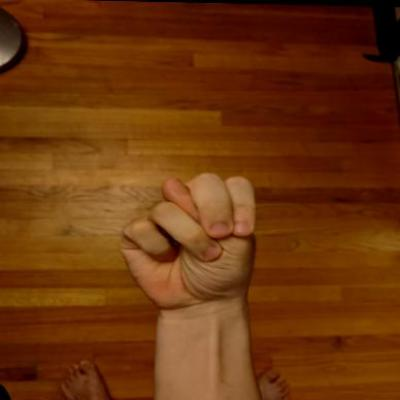hand: (114, 167, 262, 312)
